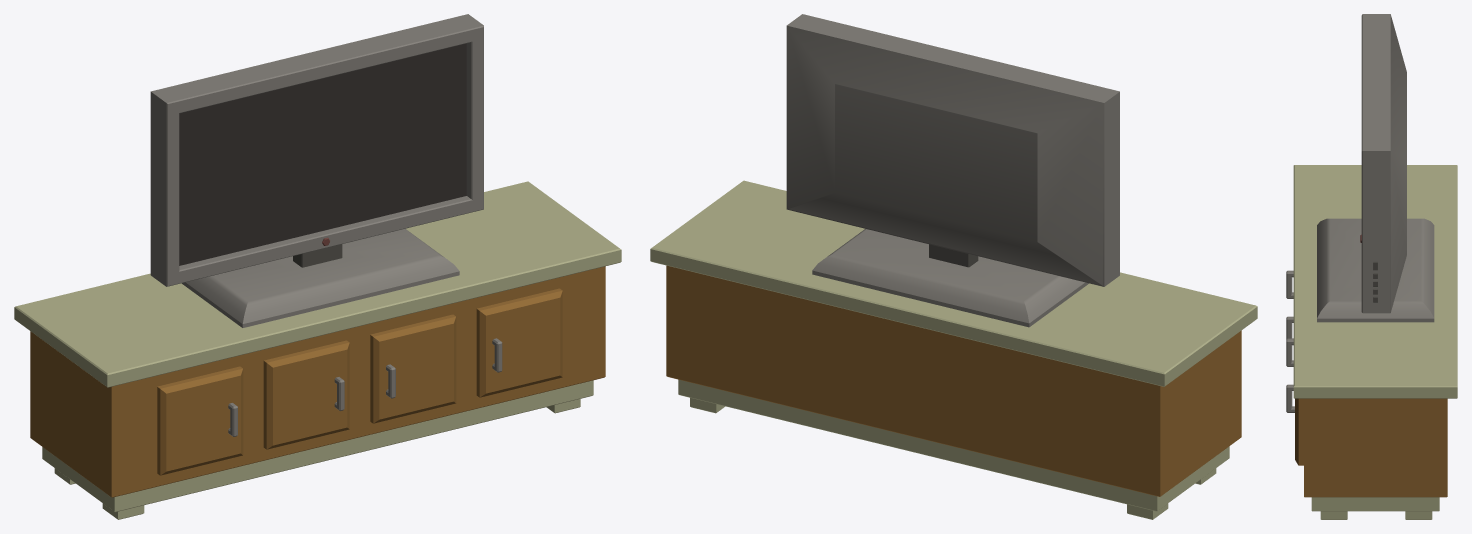
3 renders of one model, left to right at view 1: azimuth 30°, elevation 25°; view 2: azimuth 150°, elevation 25°; view 3: azimuth 270°, elevation 25°, orthographic. The views are drawn at different scales.
Visible parts, largest first — view 1: TV_Stand, TV; view 2: TV_Stand, TV; view 3: TV_Stand, TV.
Part boxes in pixels (bbox=[...]): TV_Stand: bbox=[14, 181, 621, 519]; TV: bbox=[150, 14, 483, 327]; TV_Stand: bbox=[650, 180, 1257, 519]; TV: bbox=[786, 14, 1119, 327]; TV_Stand: bbox=[1286, 165, 1457, 519]; TV: bbox=[1317, 14, 1434, 322].
Bounding box in the file's own units: 312 × 222 × 102.
